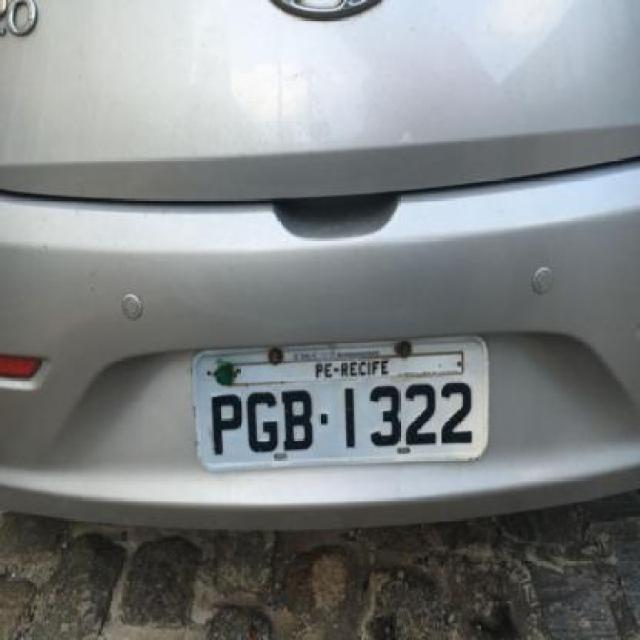old_plate: (188, 328, 495, 478)
